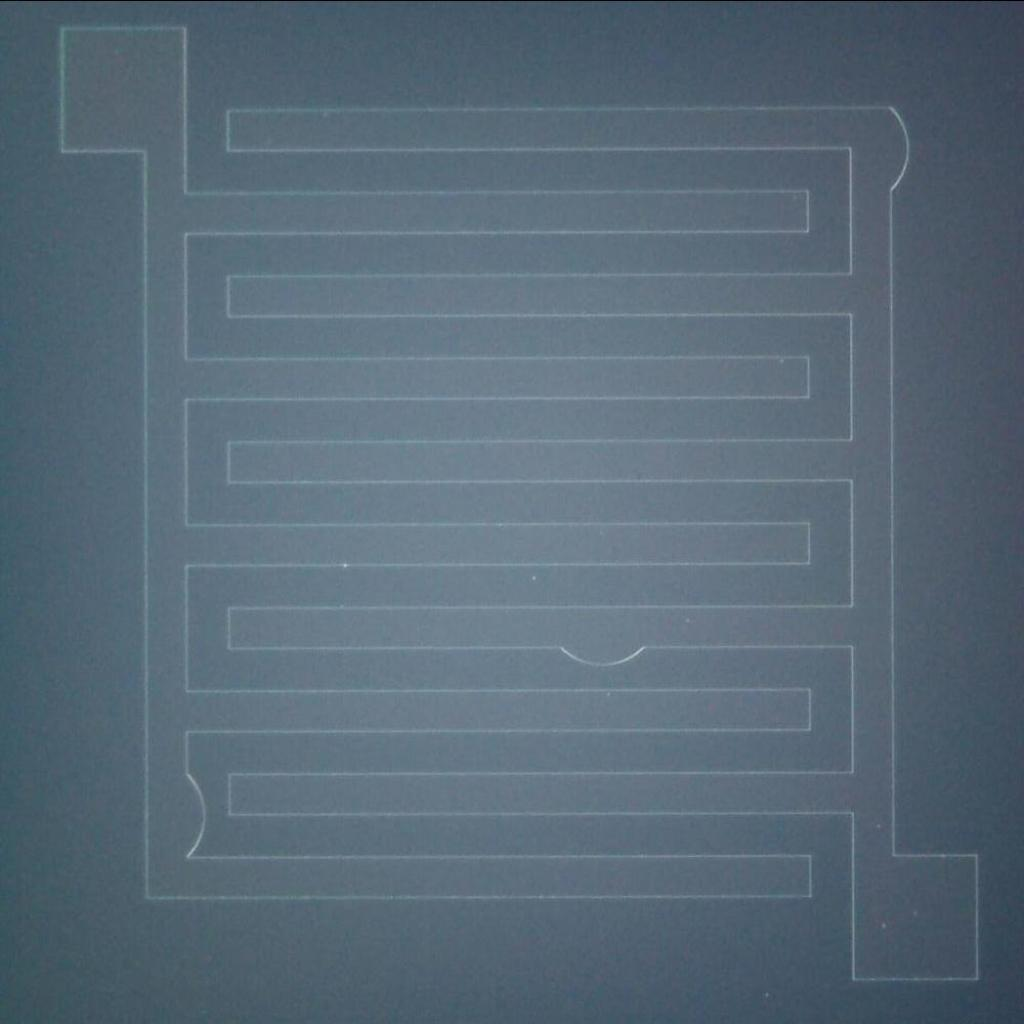curve circuit: (542, 634, 666, 672), (874, 100, 918, 206), (170, 761, 210, 870)
